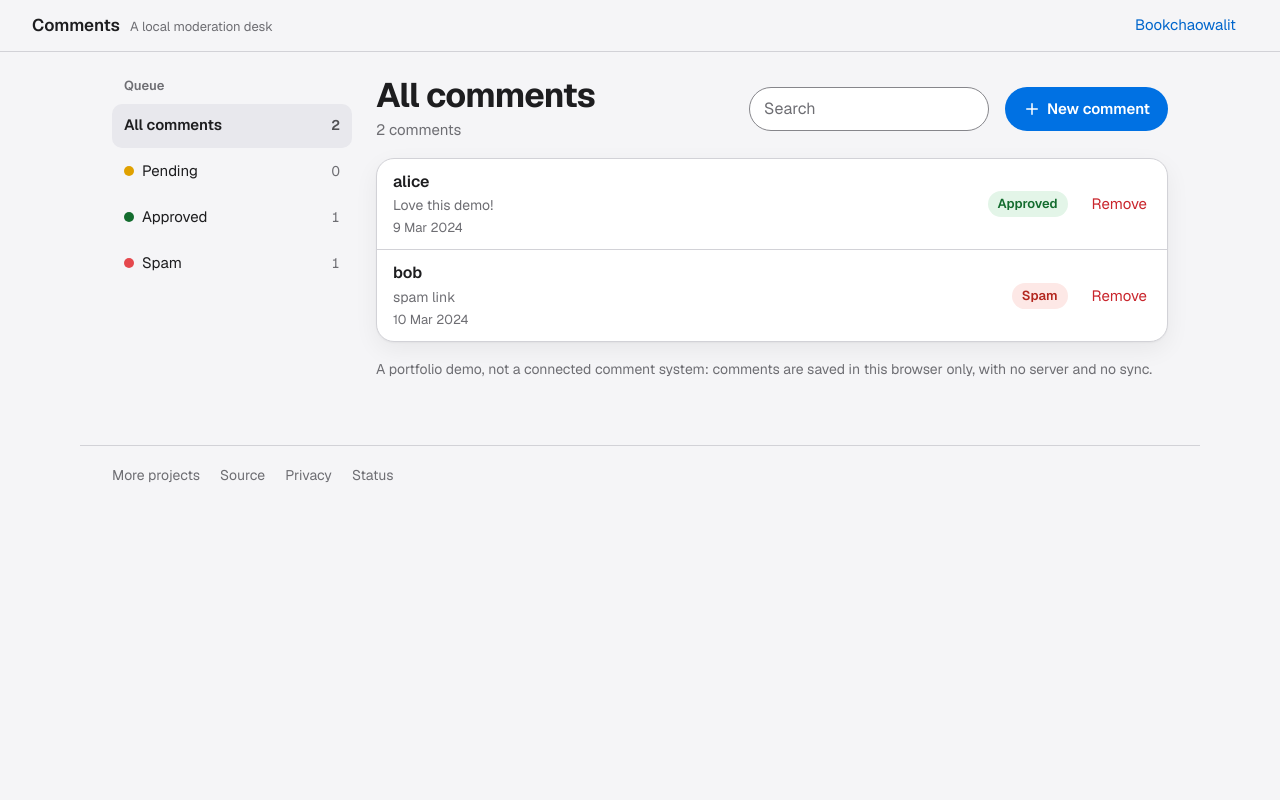
it: remove and undo › Escape dismisses the toast and focus moves to the next row; the timer closes it too
The width and height of the screenshot is (1280, 800).
Click the button with aria-label "Remove the comment by alice". click: (1119, 204)
box: [1080,182,1159,226]
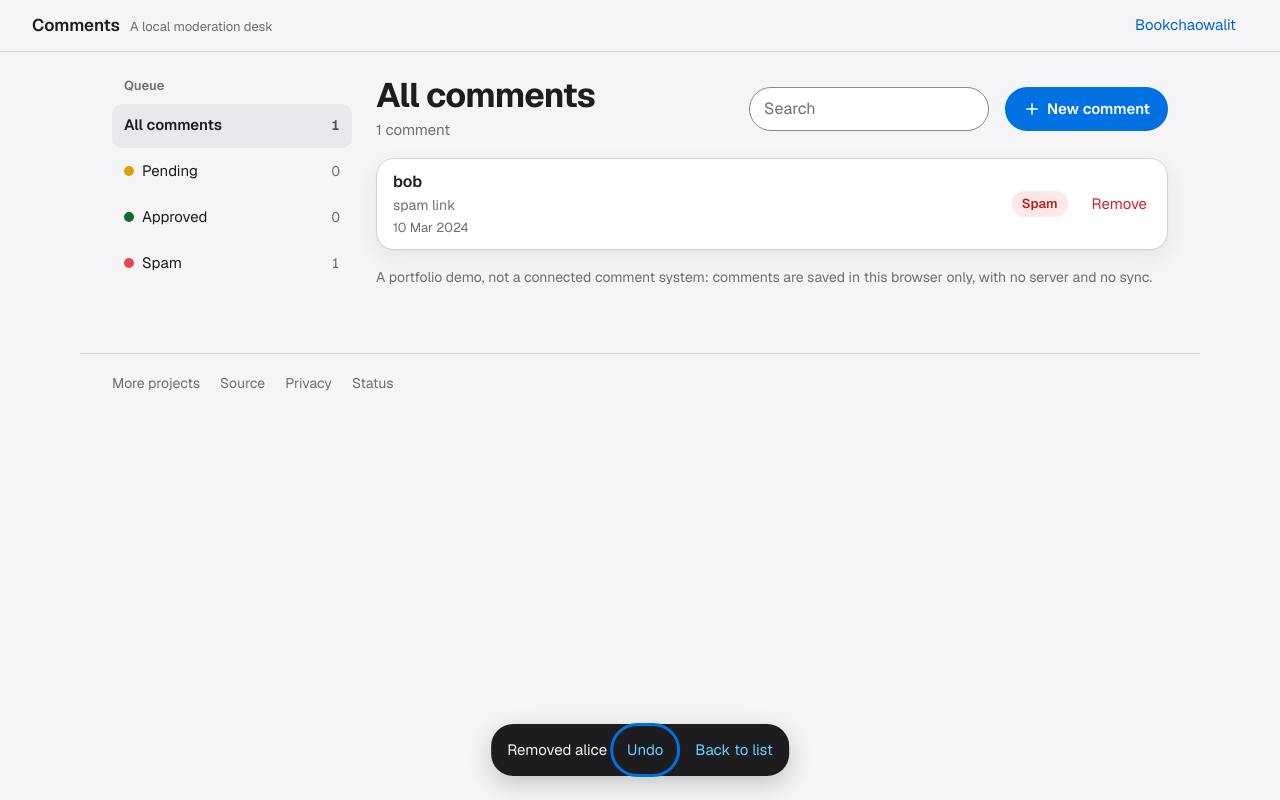
Press Escape in the element with class "as-toast", box [491,724,789,776]
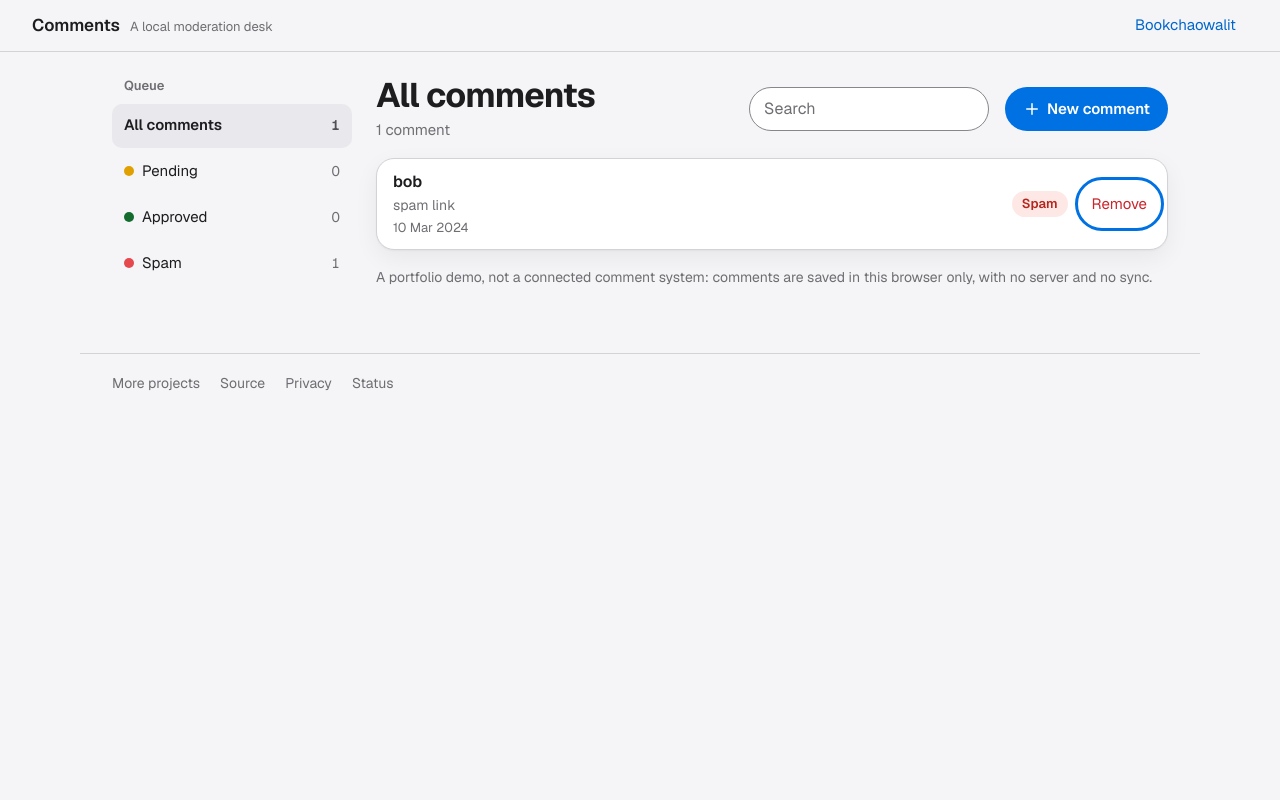
Click the button with class "as-danger". click: (1119, 204)
box: [1080,182,1159,226]
Wait 6100 ms
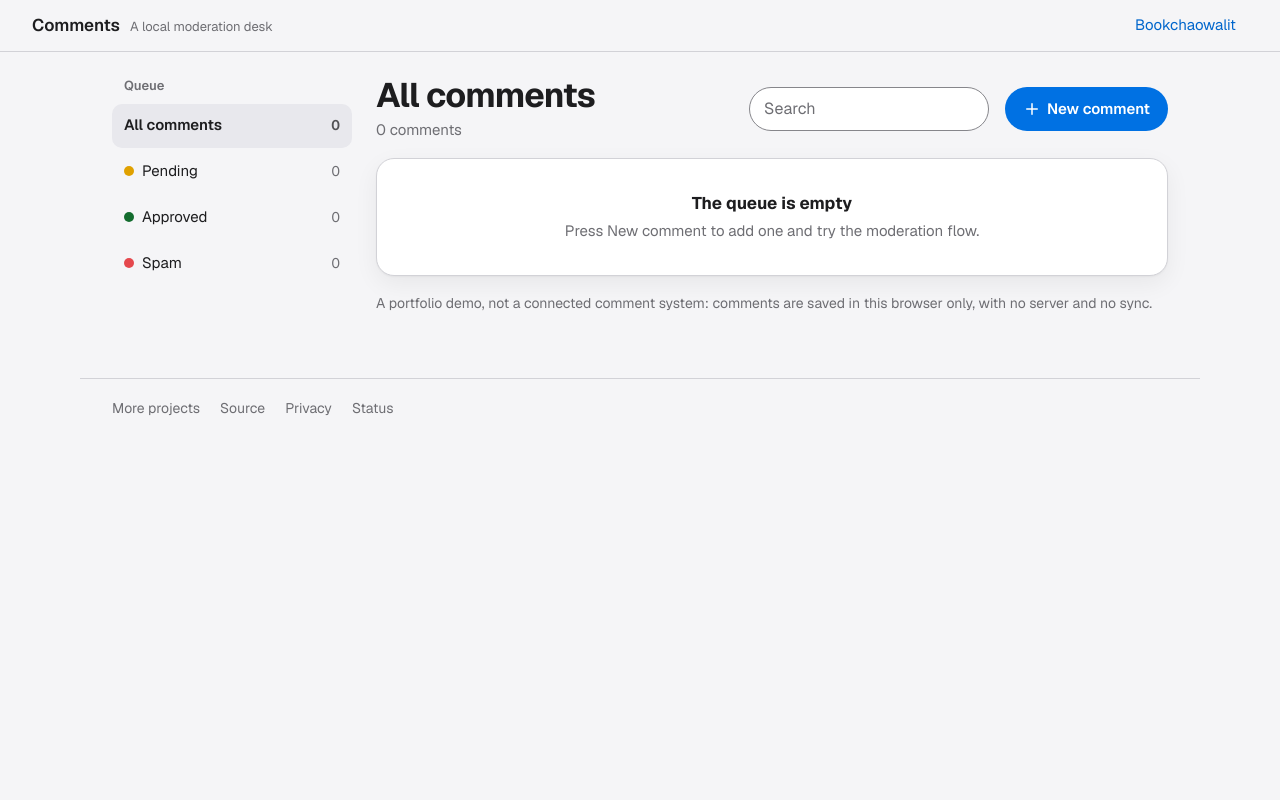
Check: the text "The queue is empty" is shown, box [692,192,852,214]
